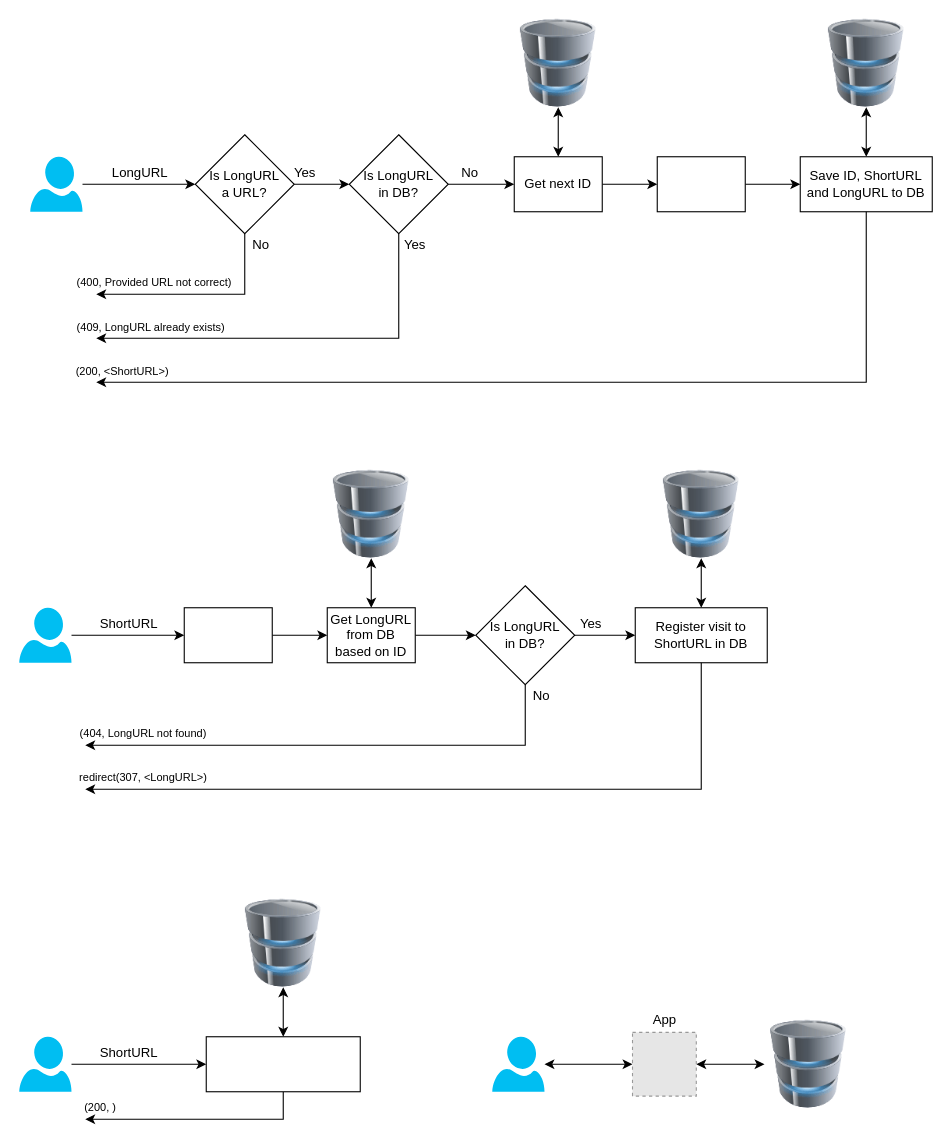
The diagram is 952 pixels wide and 1147 high, and some of its shapes have lost their labels. Grey dashed boxes stand in for pictures. The box of each missing label's shape, as (x1, y1, x2, y2) in pixels:
Calculate ShortURL from ID: (656, 156, 745, 212)
Delete ShortURL and related transactions if exists.: (205, 1036, 360, 1092)
Get ID from shortURL: (183, 607, 272, 663)
